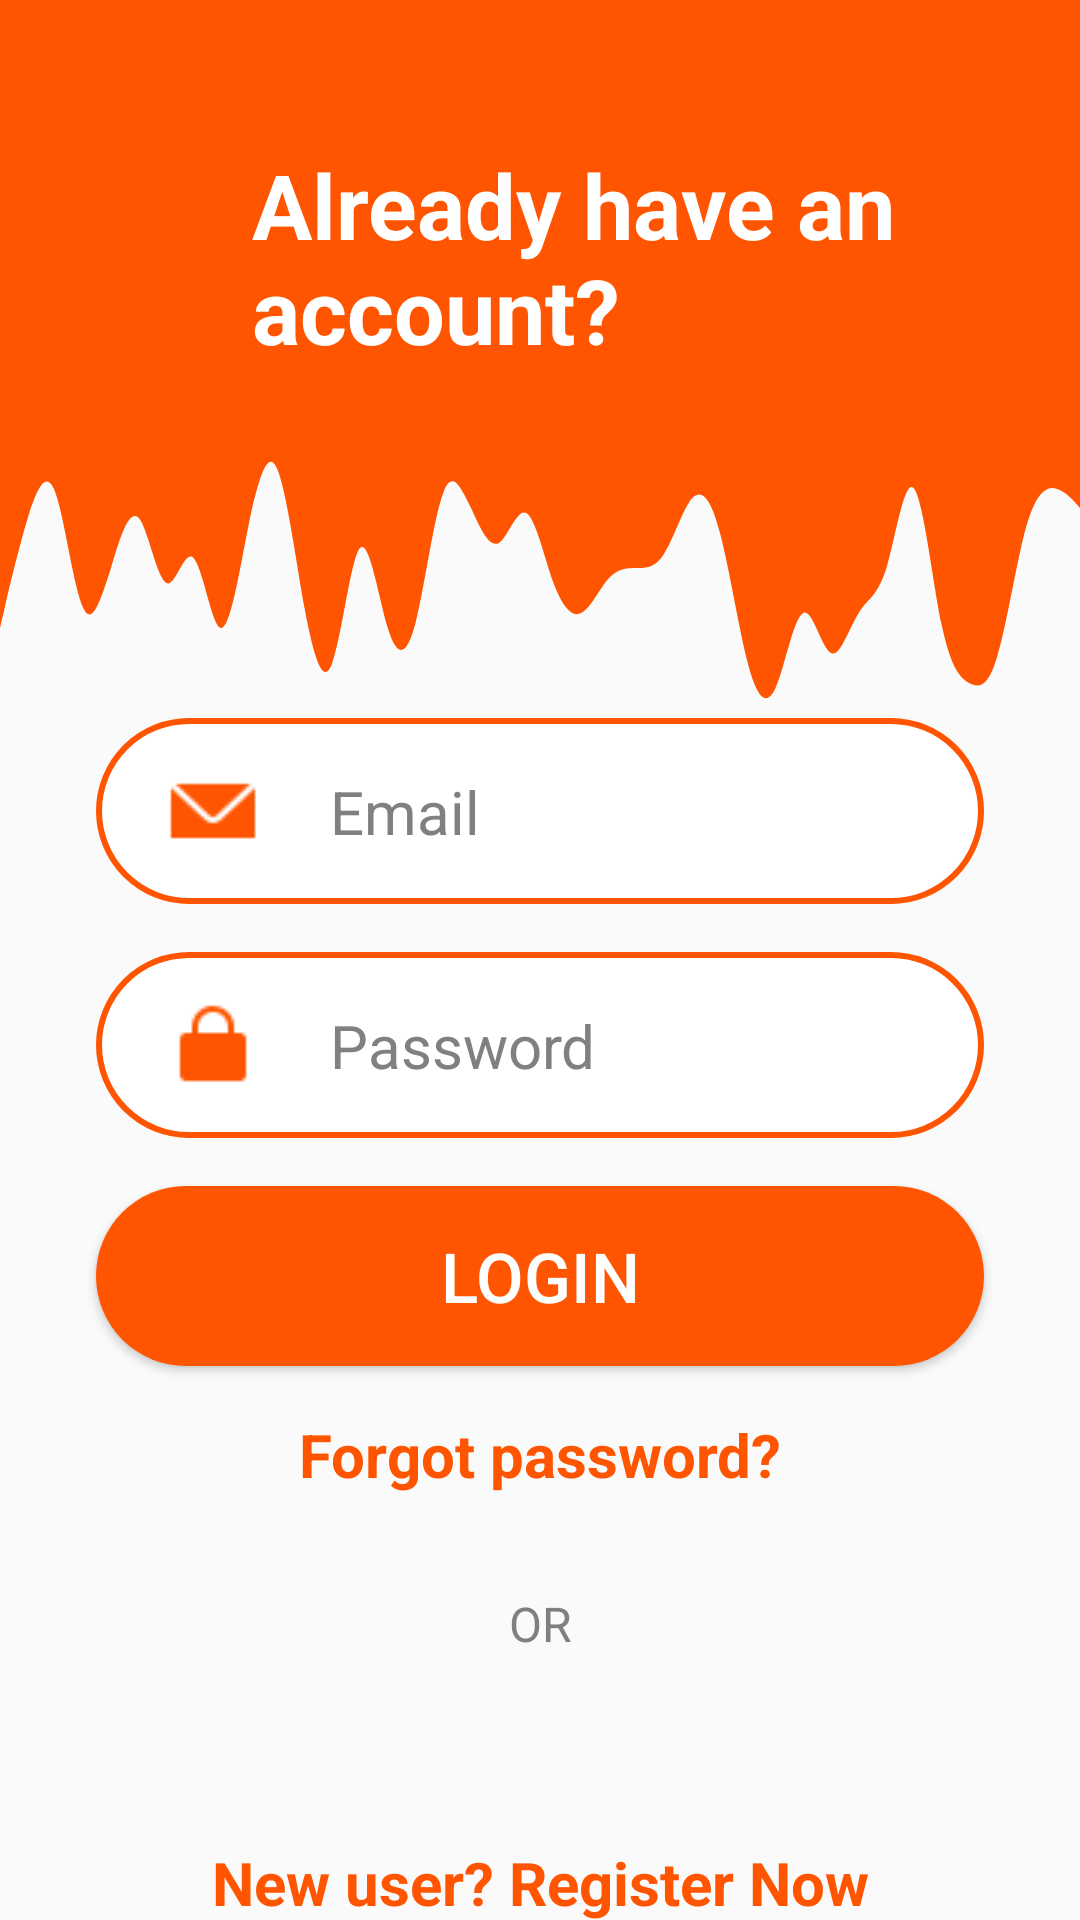

Named icons in this screenshot (1080w x 1920h) and their bounding boxes, (x1, y1, x2, y2):
lock: (179, 1005, 247, 1082)
